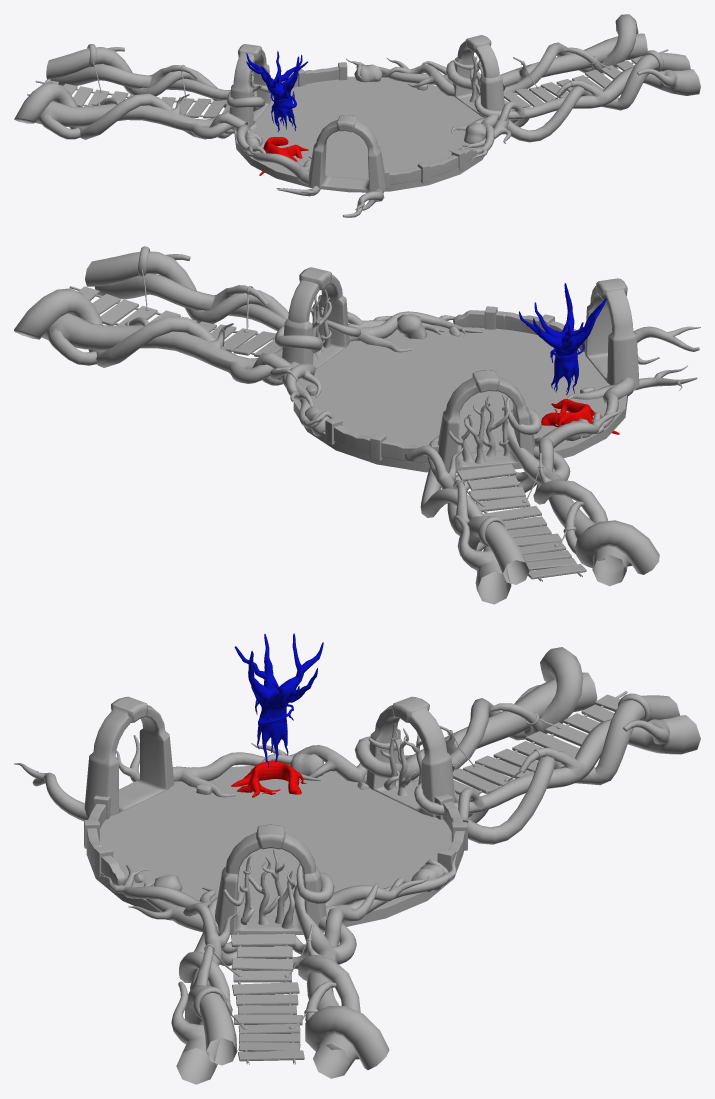
The model's file is arene.fbx.
3 views of the same model, one above another, from view 1: azimuth 30°, elevation 25°; view 2: azimuth 150°, elevation 25°; view 3: azimuth 270°, elevation 25° (orthographic). The views are drawn at different scales.
Visible parts, largest first — view 1: pCylinder1, pCylinder155 (×2), pCylinder149 (×2), pCylinder150 (×2), pCylinder154 (×2), pCylinder80, pCylinder45, tree_of_life_full, pCylinder79, pCylinder64, pCylinder81, pCylinder63 (+10 smaller); view 2: pCylinder1, pCylinder155 (×2), pCylinder154 (×2), pCylinder149 (×2), pCylinder150 (×2), pCylinder80, pCylinder45, pCylinder79, tree_of_life_full, pCylinder173, pCylinder78, pCylinder81 (+13 smaller); view 3: pCylinder1, pCylinder149 (×2), pCylinder155 (×2), pCylinder154 (×2), pCylinder150 (×2), pCylinder80, tree_of_life_full, pCylinder79, pCylinder45, pCylinder170, pCylinder81, pCylinder63 (+13 smaller).
Boxes of the visible parts, x1=… form: pCylinder1: x1=234, y1=76, x2=484, y2=192; pCylinder155 (×2): x1=35, y1=33, x2=647, y2=139; pCylinder149 (×2): x1=50, y1=47, x2=700, y2=120; pCylinder150 (×2): x1=46, y1=47, x2=690, y2=142; pCylinder154 (×2): x1=14, y1=14, x2=638, y2=139; pCylinder80: x1=308, y1=115, x2=386, y2=192; pCylinder45: x1=452, y1=35, x2=504, y2=117; tree_of_life_full: x1=246, y1=51, x2=308, y2=175; pCylinder79: x1=229, y1=44, x2=271, y2=130; pCylinder64: x1=382, y1=58, x2=454, y2=96; pCylinder81: x1=245, y1=138, x2=311, y2=184; pCylinder63: x1=346, y1=58, x2=452, y2=84; pCylinder1: x1=293, y1=324, x2=627, y2=472; pCylinder155 (×2): x1=42, y1=313, x2=632, y2=586; pCylinder154 (×2): x1=14, y1=288, x2=659, y2=574; pCylinder149 (×2): x1=94, y1=254, x2=511, y2=604; pCylinder150 (×2): x1=85, y1=251, x2=529, y2=584; pCylinder80: x1=584, y1=278, x2=639, y2=388; pCylinder45: x1=282, y1=267, x2=349, y2=369; pCylinder79: x1=438, y1=370, x2=535, y2=471; tree_of_life_full: x1=519, y1=283, x2=619, y2=434; pCylinder173: x1=461, y1=395, x2=510, y2=463; pCylinder78: x1=349, y1=311, x2=482, y2=352; pCylinder81: x1=555, y1=377, x2=635, y2=438; pCylinder1: x1=86, y1=765, x2=462, y2=926; pCylinder149 (×2): x1=171, y1=715, x2=700, y2=1084; pCylinder155 (×2): x1=293, y1=672, x2=597, y2=1078; pCylinder154 (×2): x1=298, y1=647, x2=583, y2=1069; pCylinder150 (×2): x1=179, y1=695, x2=679, y2=1065; pCylinder80: x1=84, y1=696, x2=174, y2=817; tree_of_life_full: x1=231, y1=633, x2=323, y2=797; pCylinder79: x1=366, y1=696, x2=455, y2=817; pCylinder45: x1=215, y1=824, x2=326, y2=935; pCylinder170: x1=239, y1=849, x2=295, y2=928; pCylinder81: x1=172, y1=752, x2=320, y2=797; pCylinder63: x1=326, y1=853, x2=456, y2=922.
Bounding box in the file's own units: 9982 × 2071 × 7290.
